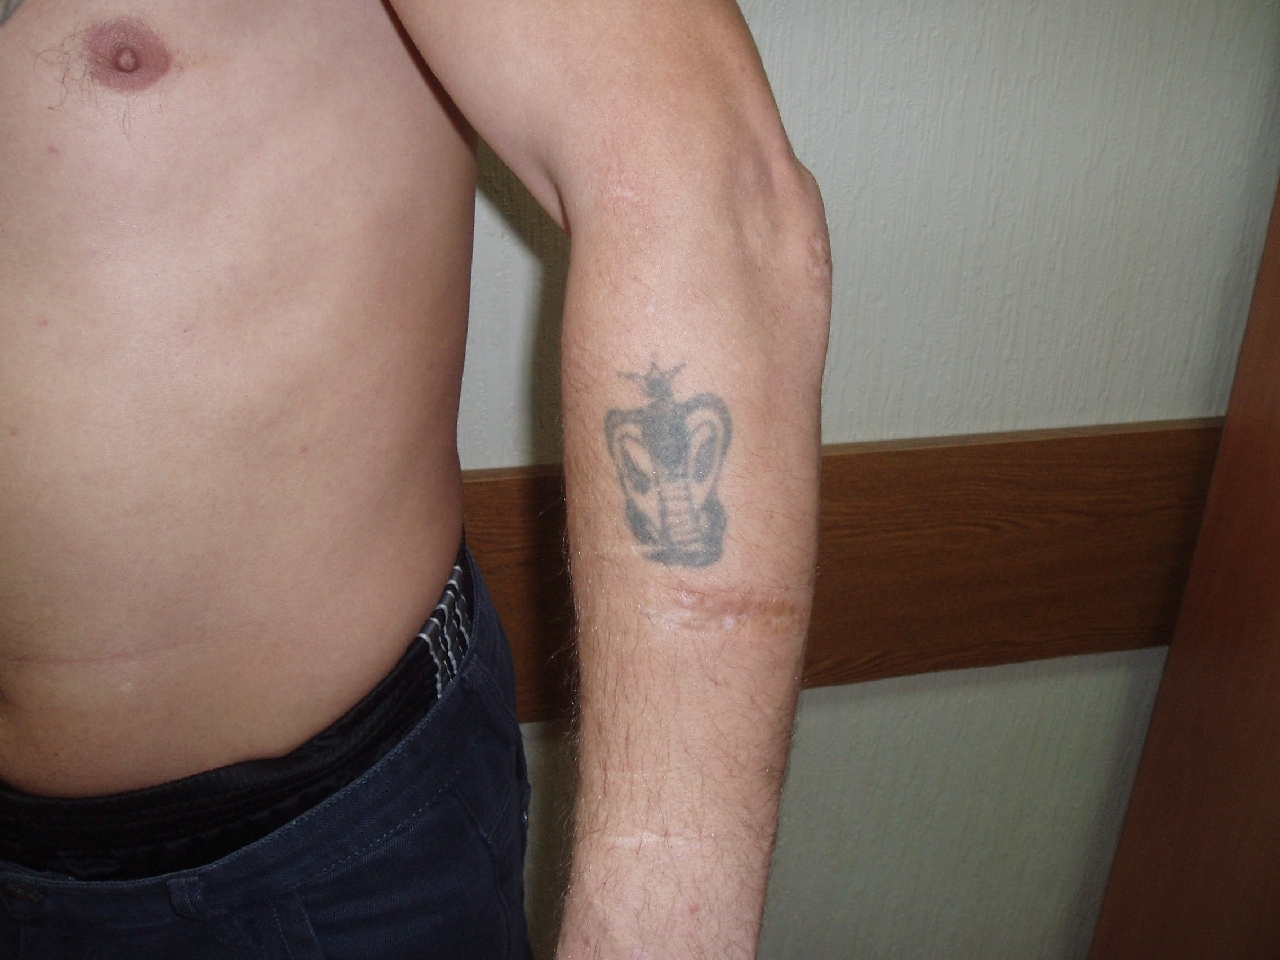tatu7_zmeya: (590, 352, 755, 574)
